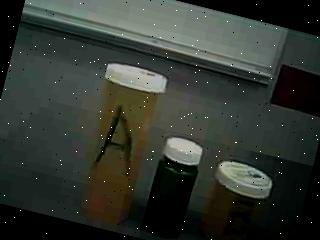Bottle A: (64, 54, 173, 234)
Bottle B: (193, 155, 277, 240)
Bottle C: (137, 129, 212, 240)
